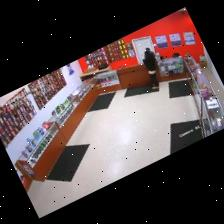person: (143, 49, 159, 89)
